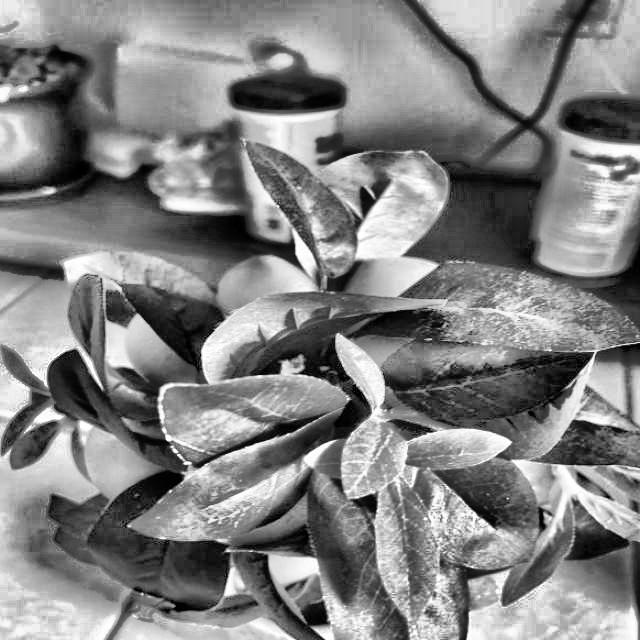plants: (69, 225, 640, 640)
